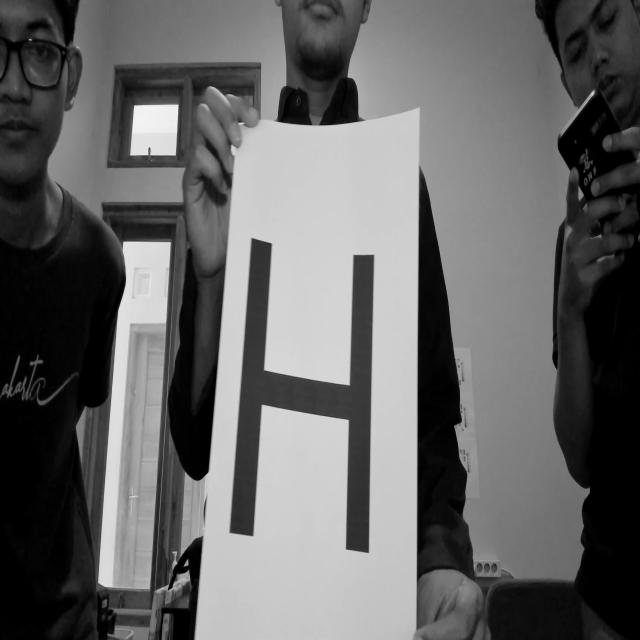h: (228, 209, 380, 569)
